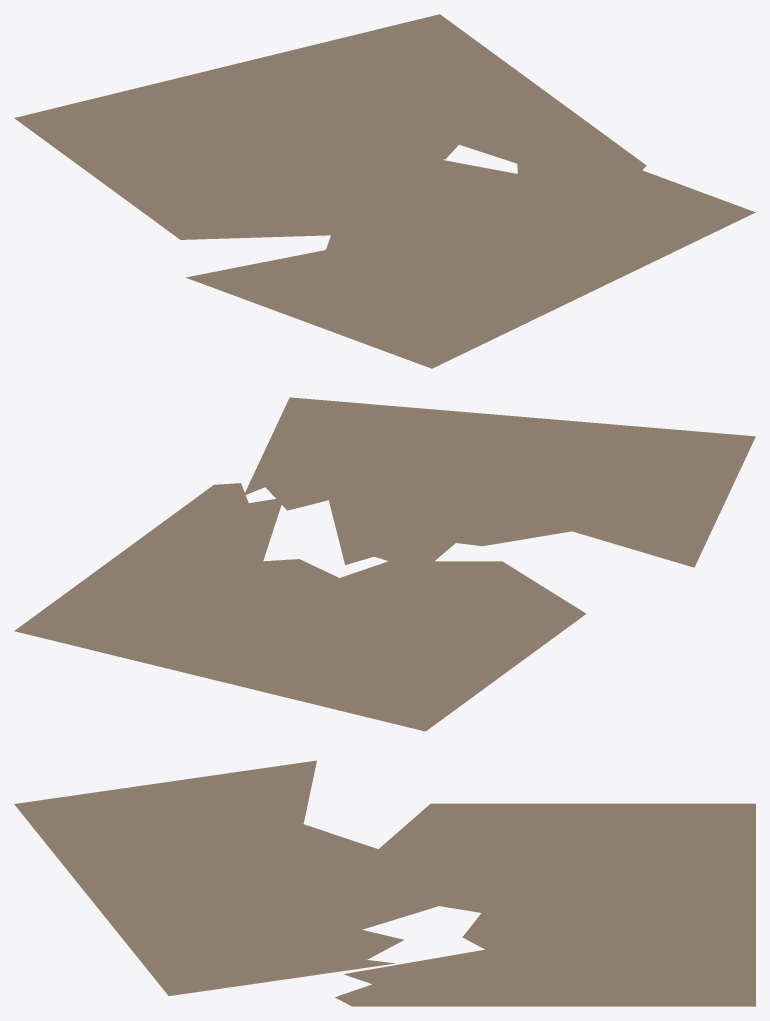
Rendered from Letter7.fbx.
3 views of the same model, one above another, from view 1: azimuth 30°, elevation 25°; view 2: azimuth 150°, elevation 25°; view 3: azimuth 270°, elevation 25° (orthographic). The views are drawn at different scales.
Parts seen in each view (by area): view 1: Cube.056, Cube.055; view 2: Cube.056, Cube.055; view 3: Cube.056, Cube.055.
Part boxes in pixels (x1,y1,x2,y2): Cube.056: [14, 14, 646, 239]; Cube.055: [186, 144, 755, 368]; Cube.056: [14, 483, 586, 731]; Cube.055: [243, 397, 755, 571]; Cube.056: [335, 803, 755, 1006]; Cube.055: [14, 760, 487, 995].
Size of the model in its own units: 70.12 by 2.45 by 93.27.
